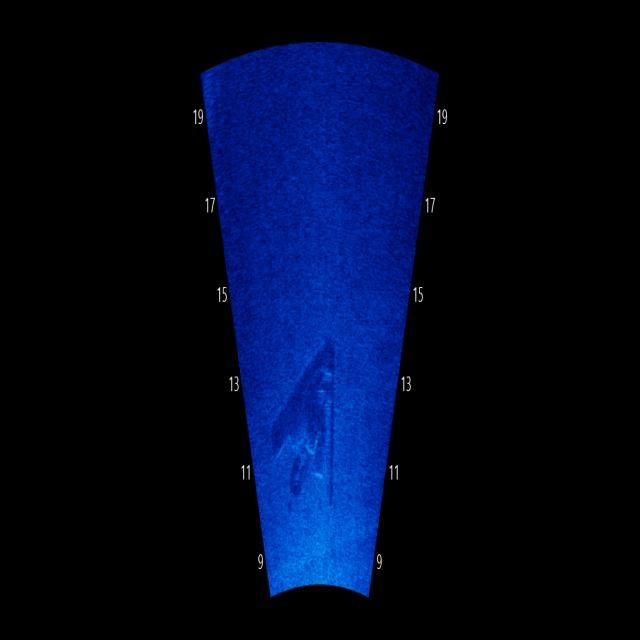triangle: (268, 266, 364, 513)
